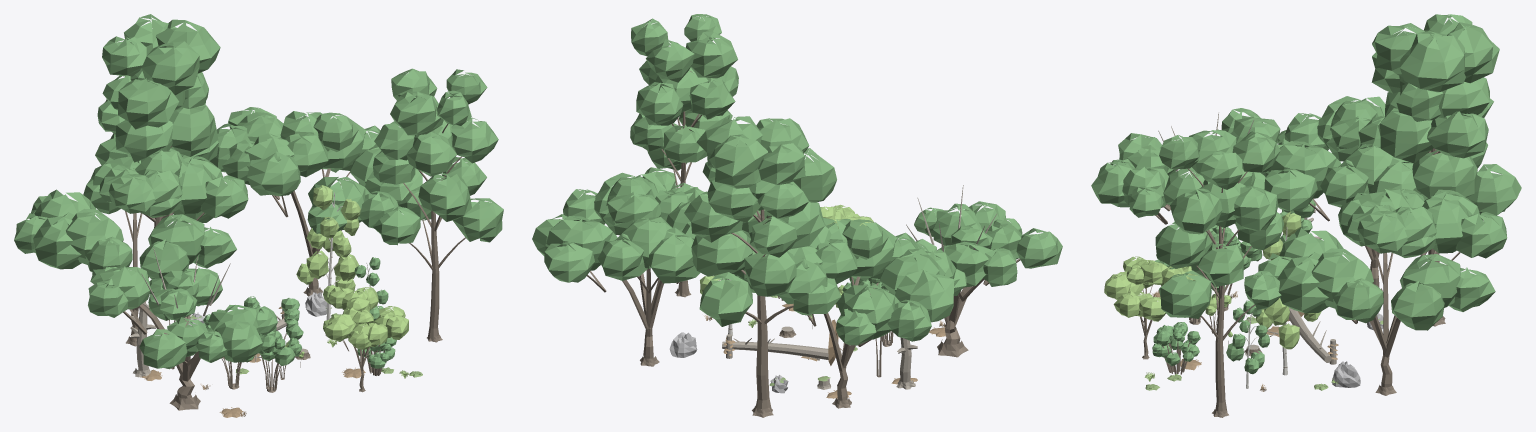
Rendered from oak-glade.glb.
3 views of the same model, side by side, from view 1: azimuth 30°, elevation 25°; view 2: azimuth 150°, elevation 25°; view 3: azimuth 270°, elevation 25° (orthographic). The views are drawn at different scales.
Parts seen in each view (by area): view 1: 000-english-oak-mature/1, 006-beech-mature/1, 007-common-ash-mature/1, 001-english-oak-mature/1, 002-english-oak-veteran/1, 003-english-oak-young/1, 004-silver-birch-mature/1, 010-hazel-coppice-stool/1, 007-common-ash-mature/0, 002-english-oak-veteran/0, 001-english-oak-mature/0, 014-oak-snag-standing/0 (+3 smaller); view 2: 006-beech-mature/1, 000-english-oak-mature/1, 001-english-oak-mature/1, 007-common-ash-mature/1, 002-english-oak-veteran/1, 006-beech-mature/0, 001-english-oak-mature/0, 002-english-oak-veteran/0, 000-english-oak-mature/0, 013-fallen-oak-trunk/0, 014-oak-snag-standing/0, 007-common-ash-mature/0 (+2 smaller); view 3: 001-english-oak-mature/1, 006-beech-mature/1, 007-common-ash-mature/1, 000-english-oak-mature/1, 002-english-oak-veteran/1, 003-english-oak-young/1, 004-silver-birch-mature/1, 007-common-ash-mature/0, 001-english-oak-mature/0, 012-hawthorn-scrub/1, 005-downy-birch-young/1, 013-fallen-oak-trunk/0 (+3 smaller).
Part boxes in pixels (left/top/right/bottom): 000-english-oak-mature/1: left=14, top=155, right=248, bottom=278; 006-beech-mature/1: left=83, top=14, right=220, bottom=223; 007-common-ash-mature/1: left=373, top=68, right=503, bottom=245; 001-english-oak-mature/1: left=209, top=107, right=422, bottom=233; 002-english-oak-veteran/1: left=88, top=266, right=277, bottom=369; 003-english-oak-young/1: left=323, top=286, right=408, bottom=349; 004-silver-birch-mature/1: left=296, top=185, right=360, bottom=304; 010-hazel-coppice-stool/1: left=244, top=296, right=303, bottom=365; 007-common-ash-mature/0: left=403, top=123, right=465, bottom=342; 002-english-oak-veteran/0: left=123, top=304, right=200, bottom=410; 001-english-oak-mature/0: left=272, top=168, right=359, bottom=296; 014-oak-snag-standing/0: left=130, top=301, right=155, bottom=377; 006-beech-mature/1: left=684, top=116, right=841, bottom=326; 000-english-oak-mature/1: left=735, top=217, right=955, bottom=345; 001-english-oak-mature/1: left=532, top=172, right=707, bottom=283; 007-common-ash-mature/1: left=630, top=14, right=738, bottom=191; 002-english-oak-veteran/1: left=896, top=201, right=1062, bottom=295; 006-beech-mature/0: left=731, top=209, right=793, bottom=417; 001-english-oak-mature/0: left=587, top=268, right=678, bottom=366; 002-english-oak-veteran/0: left=937, top=245, right=1020, bottom=357; 000-english-oak-mature/0: left=807, top=276, right=889, bottom=408; 013-fallen-oak-trunk/0: left=722, top=338, right=828, bottom=360; 014-oak-snag-standing/0: left=896, top=337, right=917, bottom=389; 007-common-ash-mature/0: left=661, top=71, right=701, bottom=297; 001-english-oak-mature/1: left=1257, top=188, right=1507, bottom=330; 006-beech-mature/1: left=1358, top=14, right=1521, bottom=220; 007-common-ash-mature/1: left=1155, top=129, right=1284, bottom=318; 000-english-oak-mature/1: left=1260, top=96, right=1427, bottom=210; 002-english-oak-veteran/1: left=1091, top=108, right=1286, bottom=217; 003-english-oak-young/1: left=1104, top=256, right=1197, bottom=321; 004-silver-birch-mature/1: left=1256, top=211, right=1321, bottom=349; 007-common-ash-mature/0: left=1188, top=168, right=1254, bottom=417; 001-english-oak-mature/0: left=1352, top=250, right=1460, bottom=395; 012-hawthorn-scrub/1: left=1152, top=322, right=1200, bottom=366; 005-downy-birch-young/1: left=1226, top=300, right=1269, bottom=374; 013-fallen-oak-trunk/0: left=1288, top=308, right=1331, bottom=362.
Bounding box in the file's own units: 39.65 × 27.59 × 35.6.
